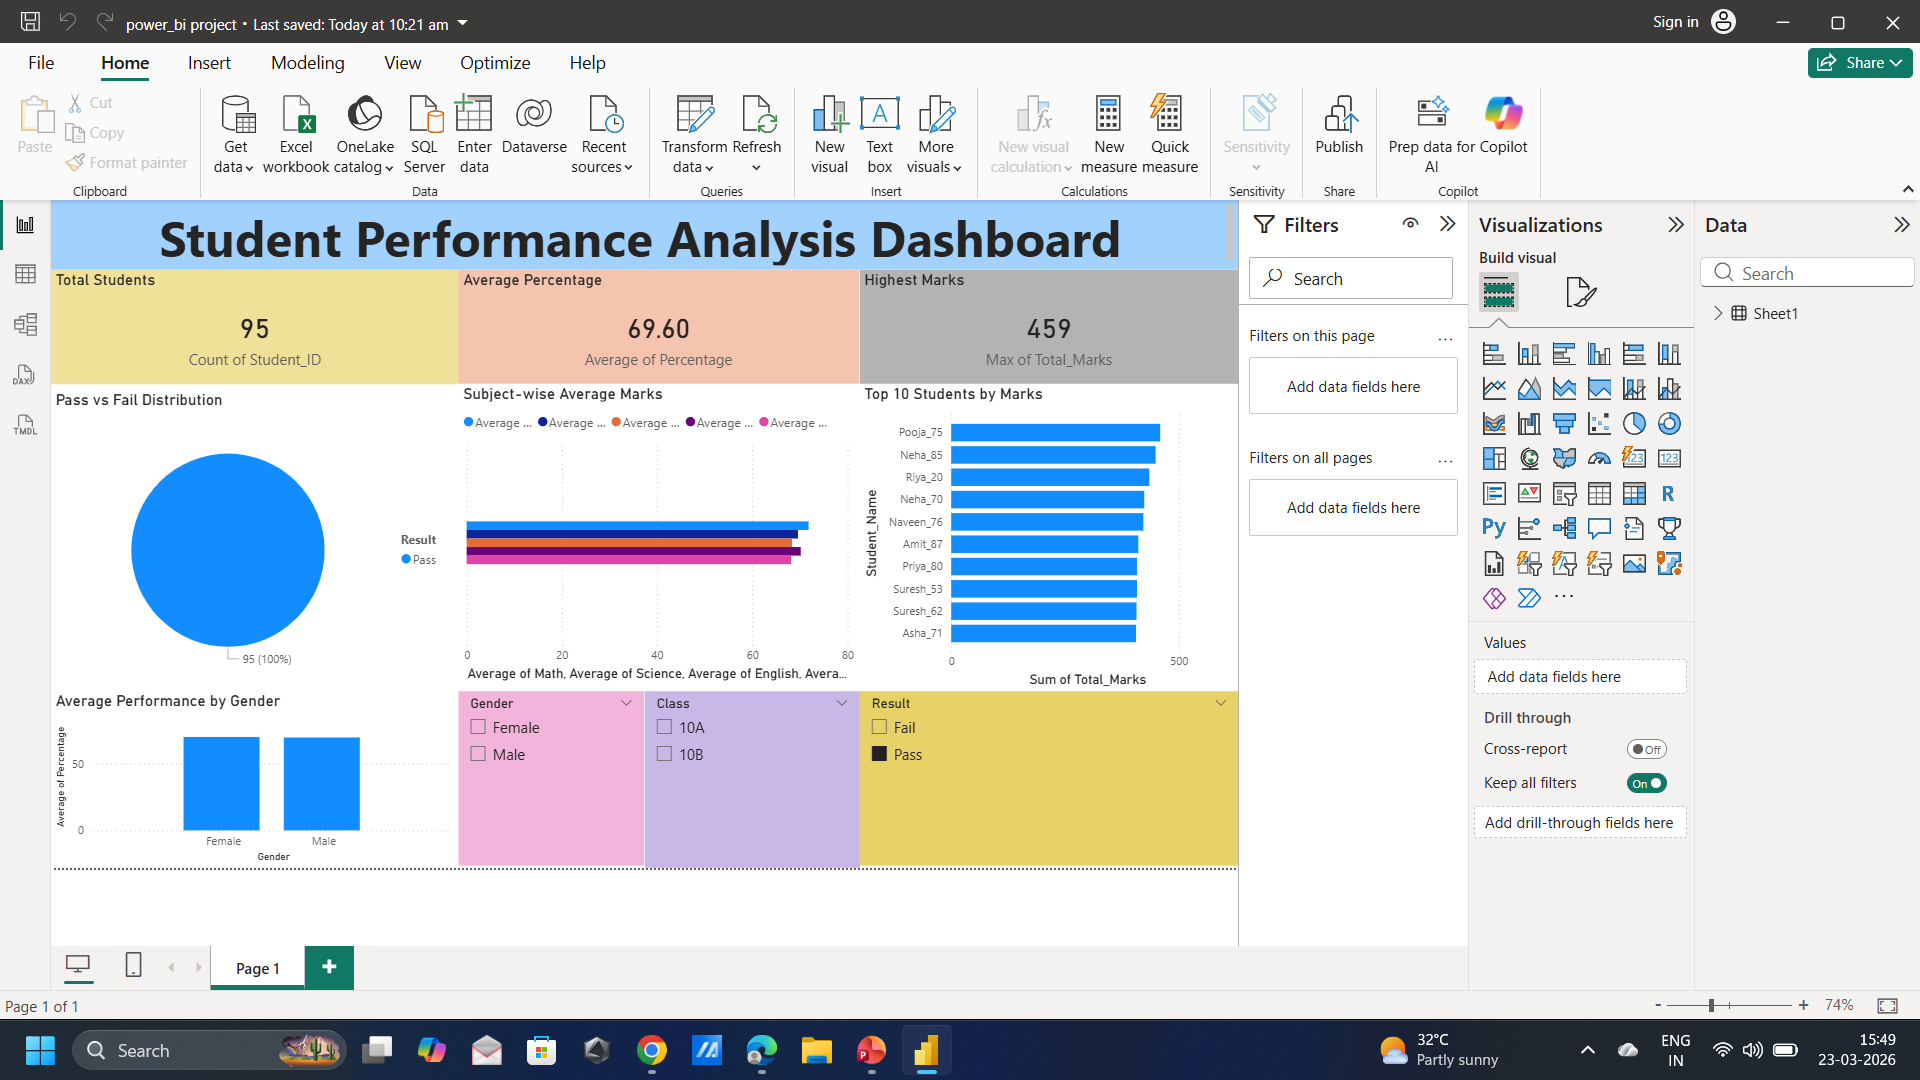

The dashboard page shown, as its layout file describes it:
{"tool":"powerbi","page":{"name":"Page 1","canvas":[1280,720],"ordinal":0},"visuals":[{"type":"card","title":"Total Students","fields":{"Values":["CountNonNull(Sheet1.Student_ID)"]},"box":[0,75,440,123.3],"z":0},{"type":"card","title":"Average Percentage","fields":{"Values":["Avg(Sheet1.Percentage)"]},"box":[440,75,431.7,123.3],"z":1000},{"type":"card","title":"Highest Marks","fields":{"Values":["Max(Sheet1.Total_Marks)"]},"box":[871.7,75,408.3,123.3],"z":2000},{"type":"pieChart","title":"Pass vs Fail Distribution","fields":{"Category":["Sheet1.Result"],"Y":["CountNonNull(Sheet1.Student_ID)"]},"box":[0,205,440,325],"z":3000},{"type":"clusteredBarChart","title":"Subject-wise Average Marks","fields":{"Y":["Avg(Sheet1.Math)","Avg(Sheet1.Science)","Avg(Sheet1.English)","Avg(Sheet1.Social)","Avg(Sheet1.Computer)"]},"box":[440,198.3,431.7,325],"z":4000},{"type":"clusteredBarChart","title":"Top 10 Students by Marks","fields":{"Category":["Sheet1.Student_Name"],"Y":["Sum(Sheet1.Total_Marks)"]},"box":[871.7,198.3,408.3,331.7],"z":5000},{"type":"clusteredColumnChart","title":"Average Performance by Gender","fields":{"Category":["Sheet1.Gender"],"Y":["Avg(Sheet1.Percentage)"]},"box":[0,530,440,190],"z":6000},{"type":"slicer","fields":{"Values":["Sheet1.Gender"]},"box":[440,530,200,188.3],"z":7000},{"type":"slicer","fields":{"Values":["Sheet1.Class"]},"box":[640,530,231.7,190],"z":8000},{"type":"slicer","fields":{"Values":["Sheet1.Result"]},"box":[871.7,530,408.3,188.3],"z":9000},{"type":"textbox","box":[0,0,1280,75],"z":9001}]}

Visuals, with their boxes on the page's 1280x720 design canvas (x1, y1, x2, y2). These are canvas units, not pixel positions in the 1920x1080 screenshot, which may show the page scaled, cropped or inside an application window:
"Total Students" card: [0, 75, 440, 198]
"Average Percentage" card: [440, 75, 872, 198]
"Highest Marks" card: [872, 75, 1280, 198]
"Pass vs Fail Distribution" pieChart: [0, 205, 440, 530]
"Subject-wise Average Marks" clusteredBarChart: [440, 198, 872, 523]
"Top 10 Students by Marks" clusteredBarChart: [872, 198, 1280, 530]
"Average Performance by Gender" clusteredColumnChart: [0, 530, 440, 720]
slicer - Sheet1.Gender: [440, 530, 640, 718]
slicer - Sheet1.Class: [640, 530, 872, 720]
slicer - Sheet1.Result: [872, 530, 1280, 718]
textbox: [0, 0, 1280, 75]
